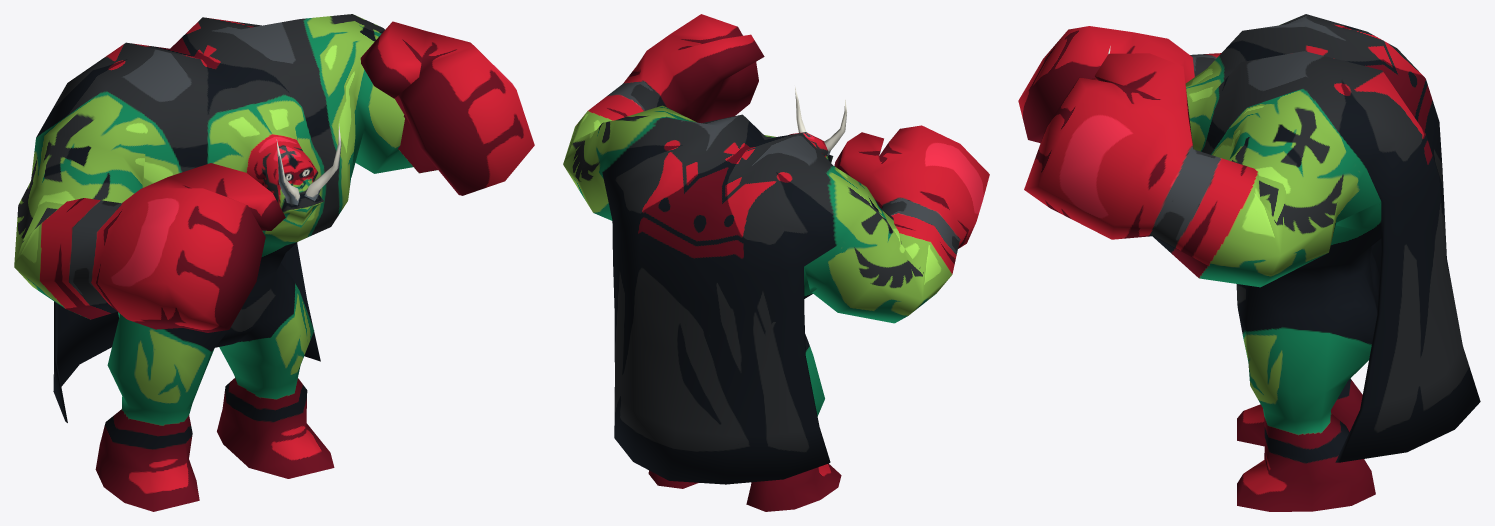
The model's file is Rey_Morpher.fbx.
3 renders of one model, left to right at view 1: azimuth 30°, elevation 25°; view 2: azimuth 150°, elevation 25°; view 3: azimuth 270°, elevation 25°, orthographic. The views are drawn at different scales.
Visible parts, largest first — view 1: Morpher_Rey; view 2: Morpher_Rey; view 3: Morpher_Rey.
Boxes of the visible parts, <box> form: Morpher_Rey: <box>14,14,534,511</box>; Morpher_Rey: <box>563,14,989,511</box>; Morpher_Rey: <box>1018,14,1480,511</box>.
Size of the model in its own units: 223 by 213 by 195.
1 material, 1 textured.
